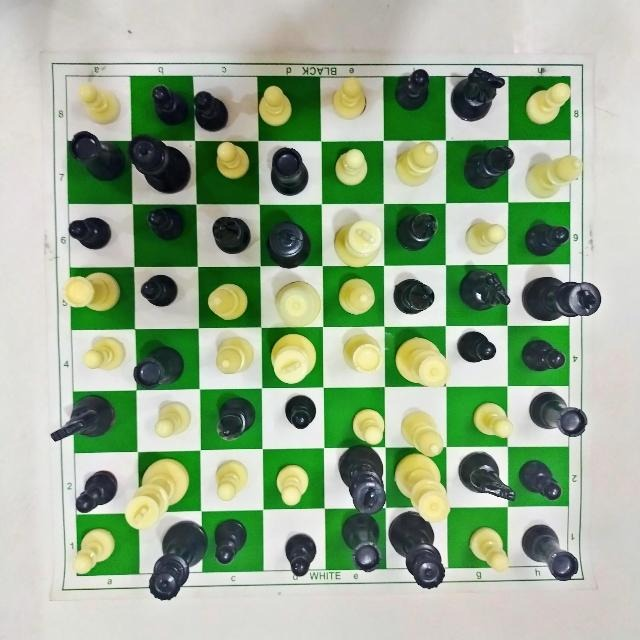black-bishop: (458, 141, 517, 193), (393, 206, 444, 258), (211, 394, 259, 446), (387, 278, 440, 320), (212, 214, 253, 257)
black-king: (518, 274, 605, 325), (336, 439, 388, 516), (260, 218, 315, 273)
black-knight: (44, 392, 124, 453), (447, 70, 517, 121), (457, 452, 519, 503)
black-pawn: (453, 264, 514, 313), (391, 62, 438, 116), (151, 82, 197, 137), (520, 216, 577, 260), (69, 468, 118, 517), (206, 520, 252, 569), (62, 214, 115, 256), (519, 456, 566, 503), (452, 327, 504, 369), (192, 84, 234, 135), (137, 205, 187, 247), (134, 270, 184, 310), (518, 337, 566, 375), (282, 534, 319, 579), (282, 393, 315, 431)
black-queen: (143, 517, 207, 611), (388, 507, 452, 593), (125, 130, 195, 195)
black-rook: (61, 127, 126, 191), (525, 388, 594, 444), (523, 520, 581, 585), (335, 507, 386, 573), (130, 343, 188, 393), (266, 142, 310, 199)
white-bishop: (394, 402, 450, 463), (526, 152, 588, 204), (393, 140, 440, 187), (206, 279, 250, 329), (213, 336, 257, 381), (336, 278, 375, 317)
white-king: (118, 456, 193, 534), (327, 215, 389, 272), (265, 333, 321, 395)
white-pawn: (69, 528, 119, 580), (328, 142, 376, 194), (526, 77, 574, 129), (466, 525, 511, 577), (74, 77, 122, 125), (259, 78, 298, 133), (329, 73, 371, 123), (213, 138, 257, 184), (214, 458, 252, 508), (470, 399, 514, 441), (151, 400, 191, 446), (274, 461, 311, 510), (350, 406, 389, 452), (79, 336, 126, 374), (465, 219, 507, 256)
white-queen: (392, 455, 455, 525), (394, 330, 452, 389), (270, 280, 322, 331)
white-rook: (60, 271, 124, 317), (343, 330, 381, 375)
